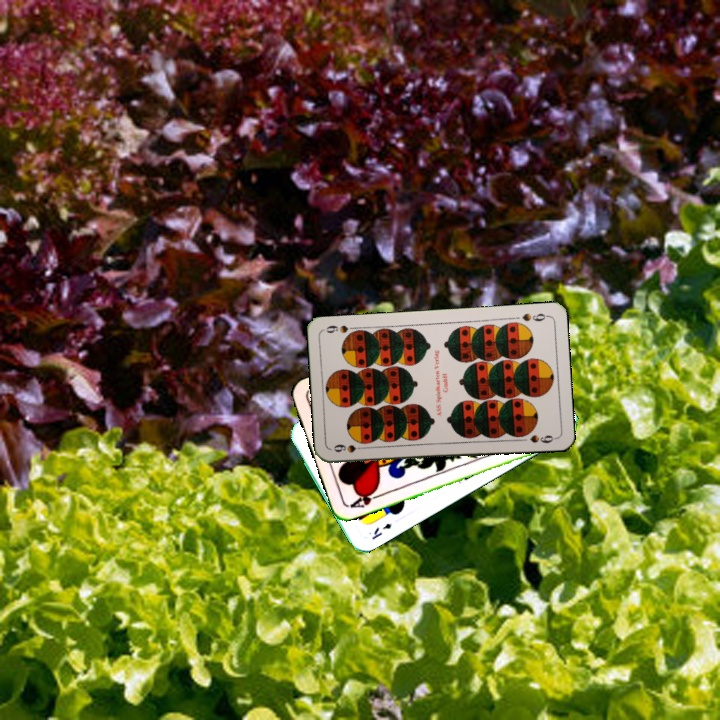EK: (368, 519, 394, 542)
HA: (344, 485, 384, 511)
S9: (329, 440, 370, 455), (518, 309, 551, 324)
